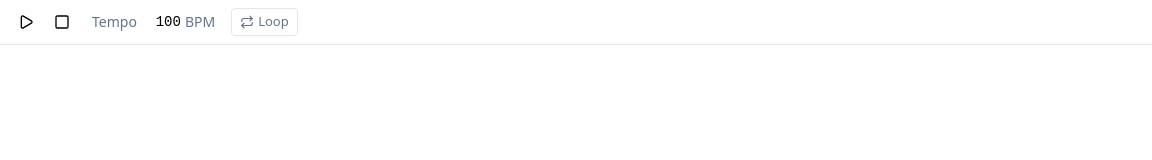
Scenario: TabToolbar › tempo input clamps below-minimum BPM to TEMPO_MIN (20)
Replace the text in the number field named "Tempo (BPM)" with "5" at {"x": 161, "y": 22}, box [141, 12, 181, 32]
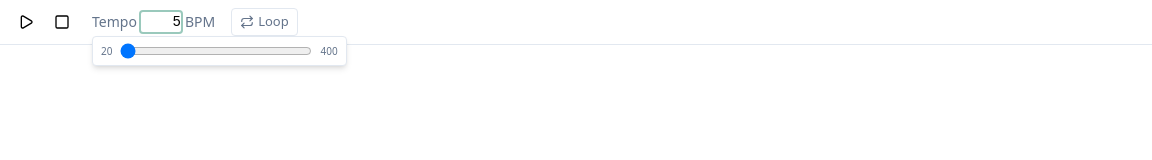
Leave the number field named "Tempo (BPM)", box [141, 12, 181, 32]
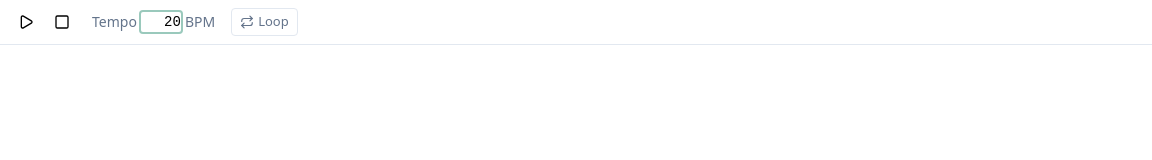
Expected: the number field named "Tempo (BPM)" holds "20", [141, 12, 181, 32]
